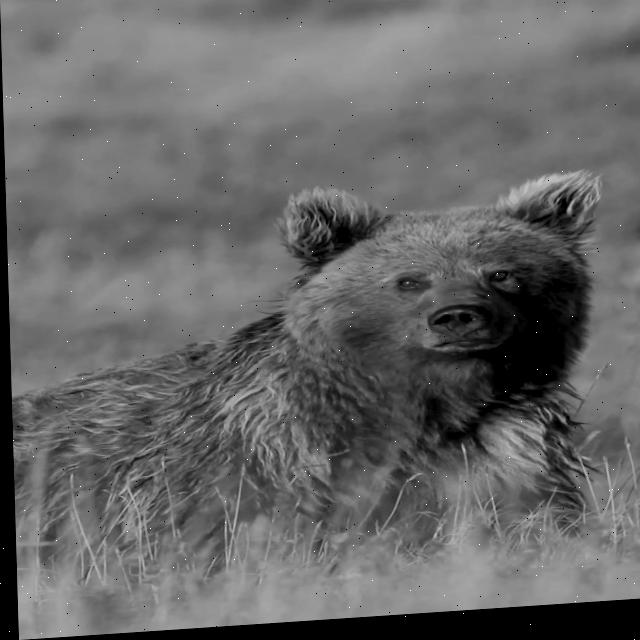Bear: (7, 167, 613, 600)
